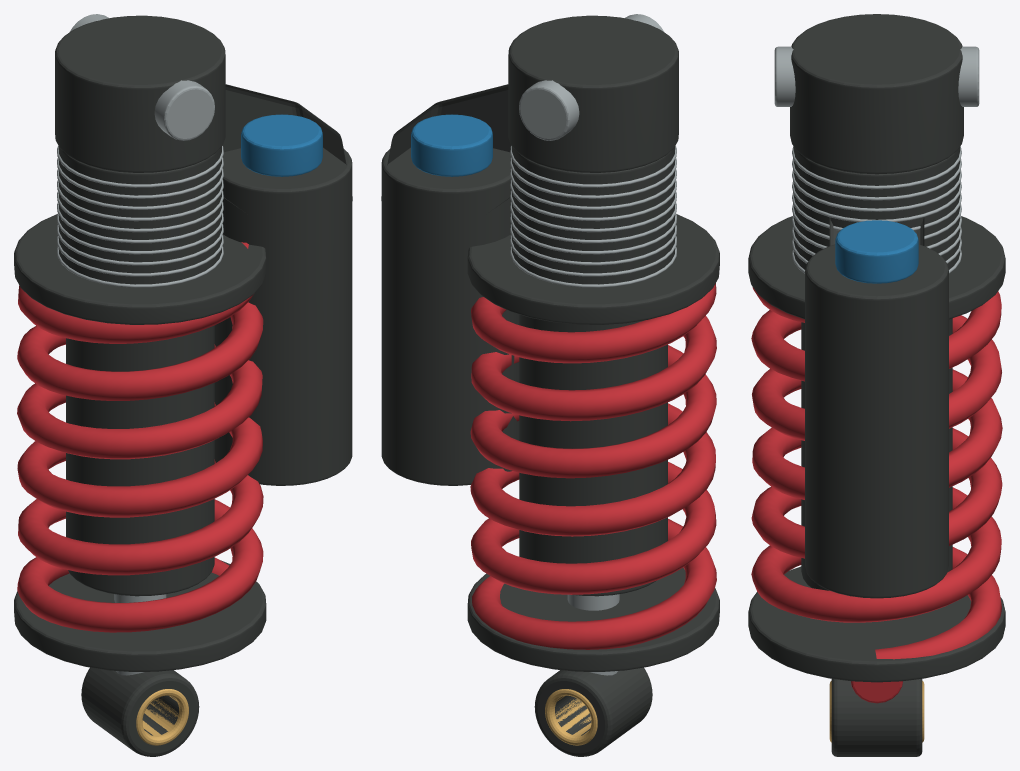
Rendered from rockshox-vivid-coil-ultimate-d1--70fa0b4d.glb.
3 views of the same model, side by side, from view 1: azimuth 30°, elevation 25°; view 2: azimuth 150°, elevation 25°; view 3: azimuth 270°, elevation 25° (orthographic).
Parts seen in each view (by area): view 1: rockshox-vivid-coil-ultimate-d1--70fa0b4d__link, rockshox-vivid-coil-ultimate-d1--70fa0b4d__rebound, rockshox-vivid-coil-ultimate-d1--70fa0b4d__bolts, rockshox-vivid-coil-ultimate-d1--70fa0b4d__adjuster, rockshox-vivid-coil-ultimate-d1--70fa0b4d__stanchions; view 2: rockshox-vivid-coil-ultimate-d1--70fa0b4d__link, rockshox-vivid-coil-ultimate-d1--70fa0b4d__rebound, rockshox-vivid-coil-ultimate-d1--70fa0b4d__bolts, rockshox-vivid-coil-ultimate-d1--70fa0b4d__adjuster, rockshox-vivid-coil-ultimate-d1--70fa0b4d__stanchions; view 3: rockshox-vivid-coil-ultimate-d1--70fa0b4d__link, rockshox-vivid-coil-ultimate-d1--70fa0b4d__rebound, rockshox-vivid-coil-ultimate-d1--70fa0b4d__bolts, rockshox-vivid-coil-ultimate-d1--70fa0b4d__adjuster.
Part boxes in pixels (x1,y1,x2,y2): rockshox-vivid-coil-ultimate-d1--70fa0b4d__link: (14,15,352,756); rockshox-vivid-coil-ultimate-d1--70fa0b4d__rebound: (17,242,263,632); rockshox-vivid-coil-ultimate-d1--70fa0b4d__bolts: (57,14,223,675); rockshox-vivid-coil-ultimate-d1--70fa0b4d__adjuster: (241,114,322,176); rockshox-vivid-coil-ultimate-d1--70fa0b4d__stanchions: (136,689,188,745); rockshox-vivid-coil-ultimate-d1--70fa0b4d__link: (381,15,719,756); rockshox-vivid-coil-ultimate-d1--70fa0b4d__rebound: (470,283,716,649); rockshox-vivid-coil-ultimate-d1--70fa0b4d__bolts: (510,14,676,675); rockshox-vivid-coil-ultimate-d1--70fa0b4d__adjuster: (411,114,492,176); rockshox-vivid-coil-ultimate-d1--70fa0b4d__stanchions: (545,689,597,745); rockshox-vivid-coil-ultimate-d1--70fa0b4d__link: (748,14,1005,756); rockshox-vivid-coil-ultimate-d1--70fa0b4d__rebound: (751,287,1002,703); rockshox-vivid-coil-ultimate-d1--70fa0b4d__bolts: (774,46,979,273); rockshox-vivid-coil-ultimate-d1--70fa0b4d__adjuster: (835,220,918,283).
Bounding box in the file's own units: 0.097 × 0.205 × 0.068.
